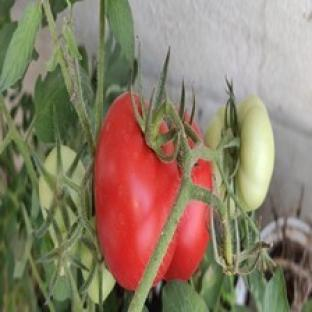Tomato: (95, 94, 181, 289), (236, 95, 274, 211), (39, 145, 76, 238), (165, 201, 208, 281), (88, 264, 115, 303)
